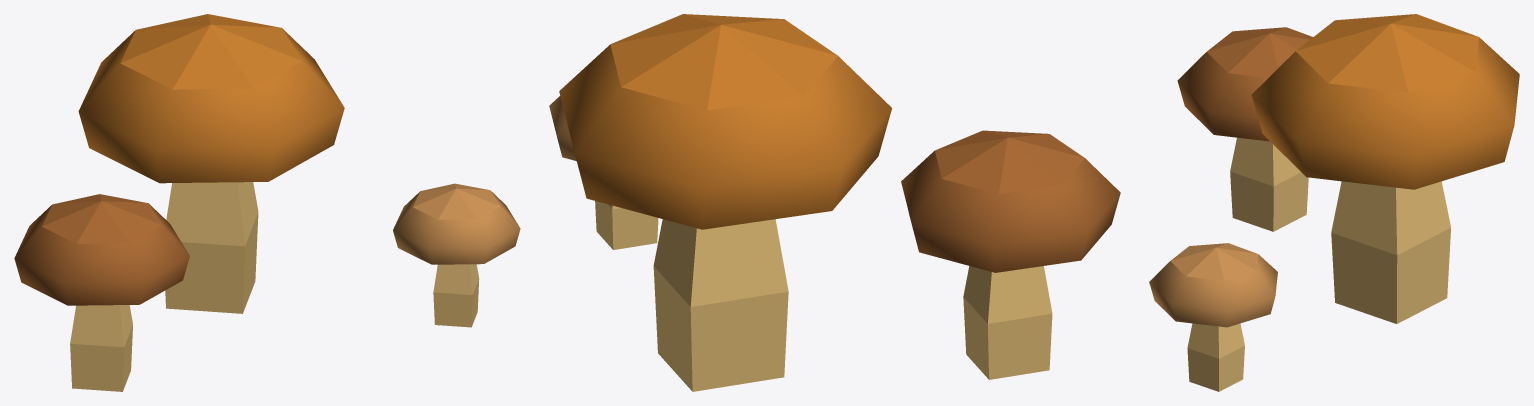
Rendered from Mushrooms.glb.
3 views of the same model, side by side, from view 1: azimuth 30°, elevation 25°; view 2: azimuth 150°, elevation 25°; view 3: azimuth 270°, elevation 25° (orthographic). The views are drawn at different scales.
Visible parts, largest first — view 1: Mushroom 1, Mushroom 2, Mushroom 3; view 2: Mushroom 1, Mushroom 2, Mushroom 3; view 3: Mushroom 1, Mushroom 2, Mushroom 3.
Part boxes in pixels (box(x1,y1,x2,y2)): Mushroom 1: box(78, 14, 344, 313); Mushroom 2: box(14, 194, 189, 391); Mushroom 3: box(393, 183, 520, 327); Mushroom 1: box(559, 14, 891, 391); Mushroom 2: box(901, 130, 1120, 379); Mushroom 3: box(549, 96, 658, 249); Mushroom 1: box(1251, 14, 1519, 323); Mushroom 2: box(1177, 27, 1312, 231); Mushroom 3: box(1149, 243, 1277, 391).
Bounding box in the file's own units: 1.12 × 0.629 × 0.7629.
1 material, 1 textured.
